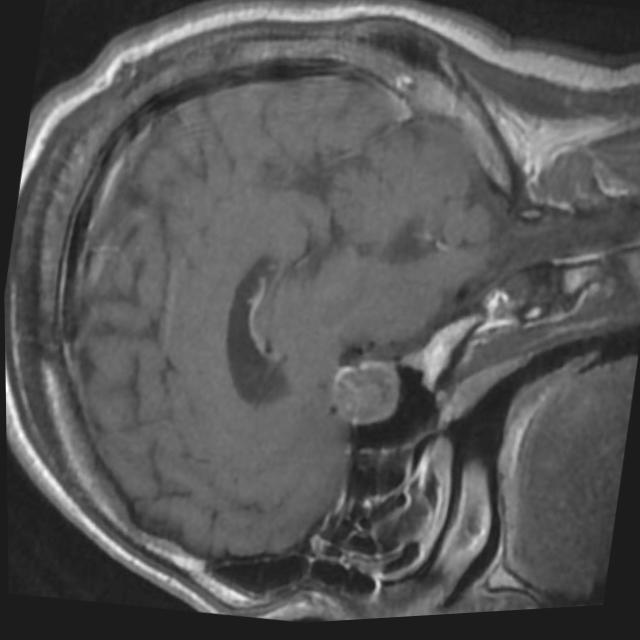Pituitary: (325, 353, 405, 434)
